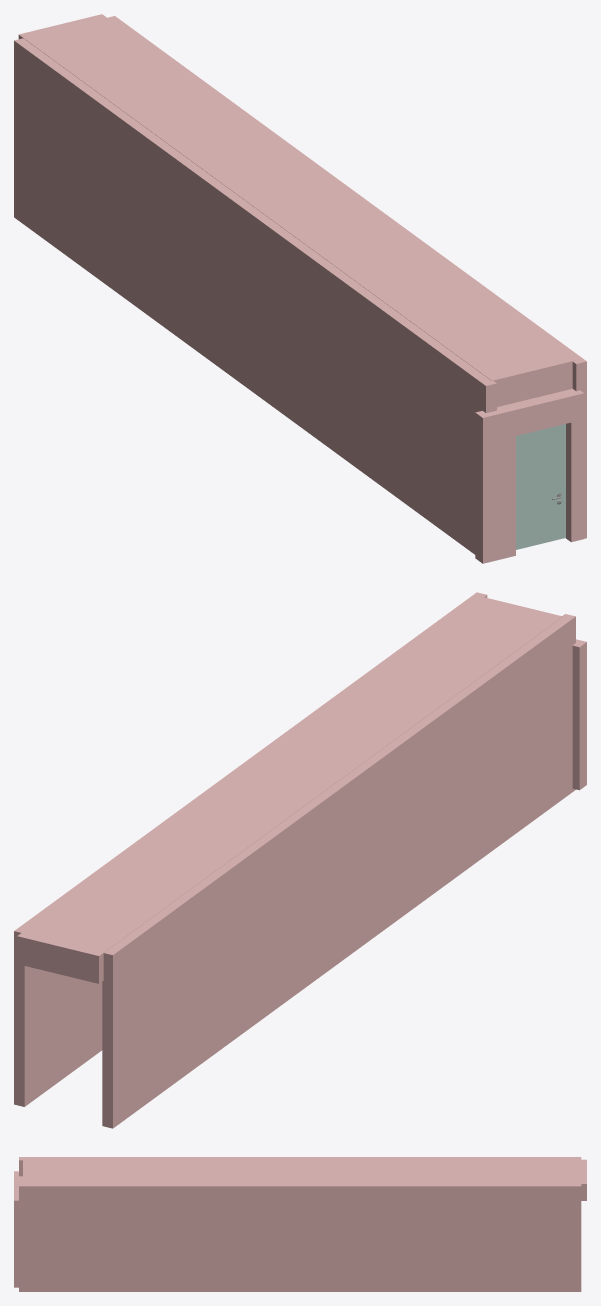
Rendered from road_to_gummy_forest.fbx.
The picture shows the model from 3 angles, top to bottom: view 1: azimuth 30°, elevation 25°; view 2: azimuth 150°, elevation 25°; view 3: azimuth 270°, elevation 25°; orthographic projection. The views are drawn at different scales.
Visible parts, largest first — view 1: Cube.029, Cube.014, Cube.036, reception_door.002, Cube.055; view 2: Cube.029, Cube.014, Cube.055, Cube.036; view 3: Cube.055, Cube.014, Cube.029, Cube.036.
Part boxes in pixels (left/top/right/bottom): Cube.029: left=14, top=38, right=496, bottom=554; Cube.014: left=18, top=14, right=575, bottom=406; Cube.036: left=475, top=388, right=584, bottom=563; reception_door.002: left=516, top=424, right=565, bottom=549; Cube.055: left=107, top=16, right=586, bottom=538; Cube.029: left=102, top=614, right=575, bottom=1128; Cube.014: left=17, top=596, right=562, bottom=983; Cube.055: left=14, top=592, right=487, bottom=1106; Cube.036: left=572, top=639, right=586, bottom=790; Cube.055: left=19, top=1183, right=581, bottom=1291; Cube.014: left=23, top=1159, right=586, bottom=1200; Cube.029: left=19, top=1157, right=581, bottom=1176; Cube.036: left=14, top=1171, right=22, bottom=1287.
Size of the model in its own units: 213 by 334 by 1642.
